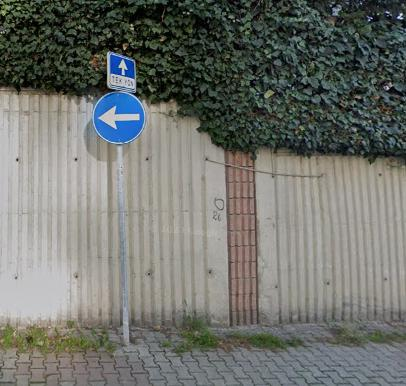turnleft: (93, 91, 147, 142)
